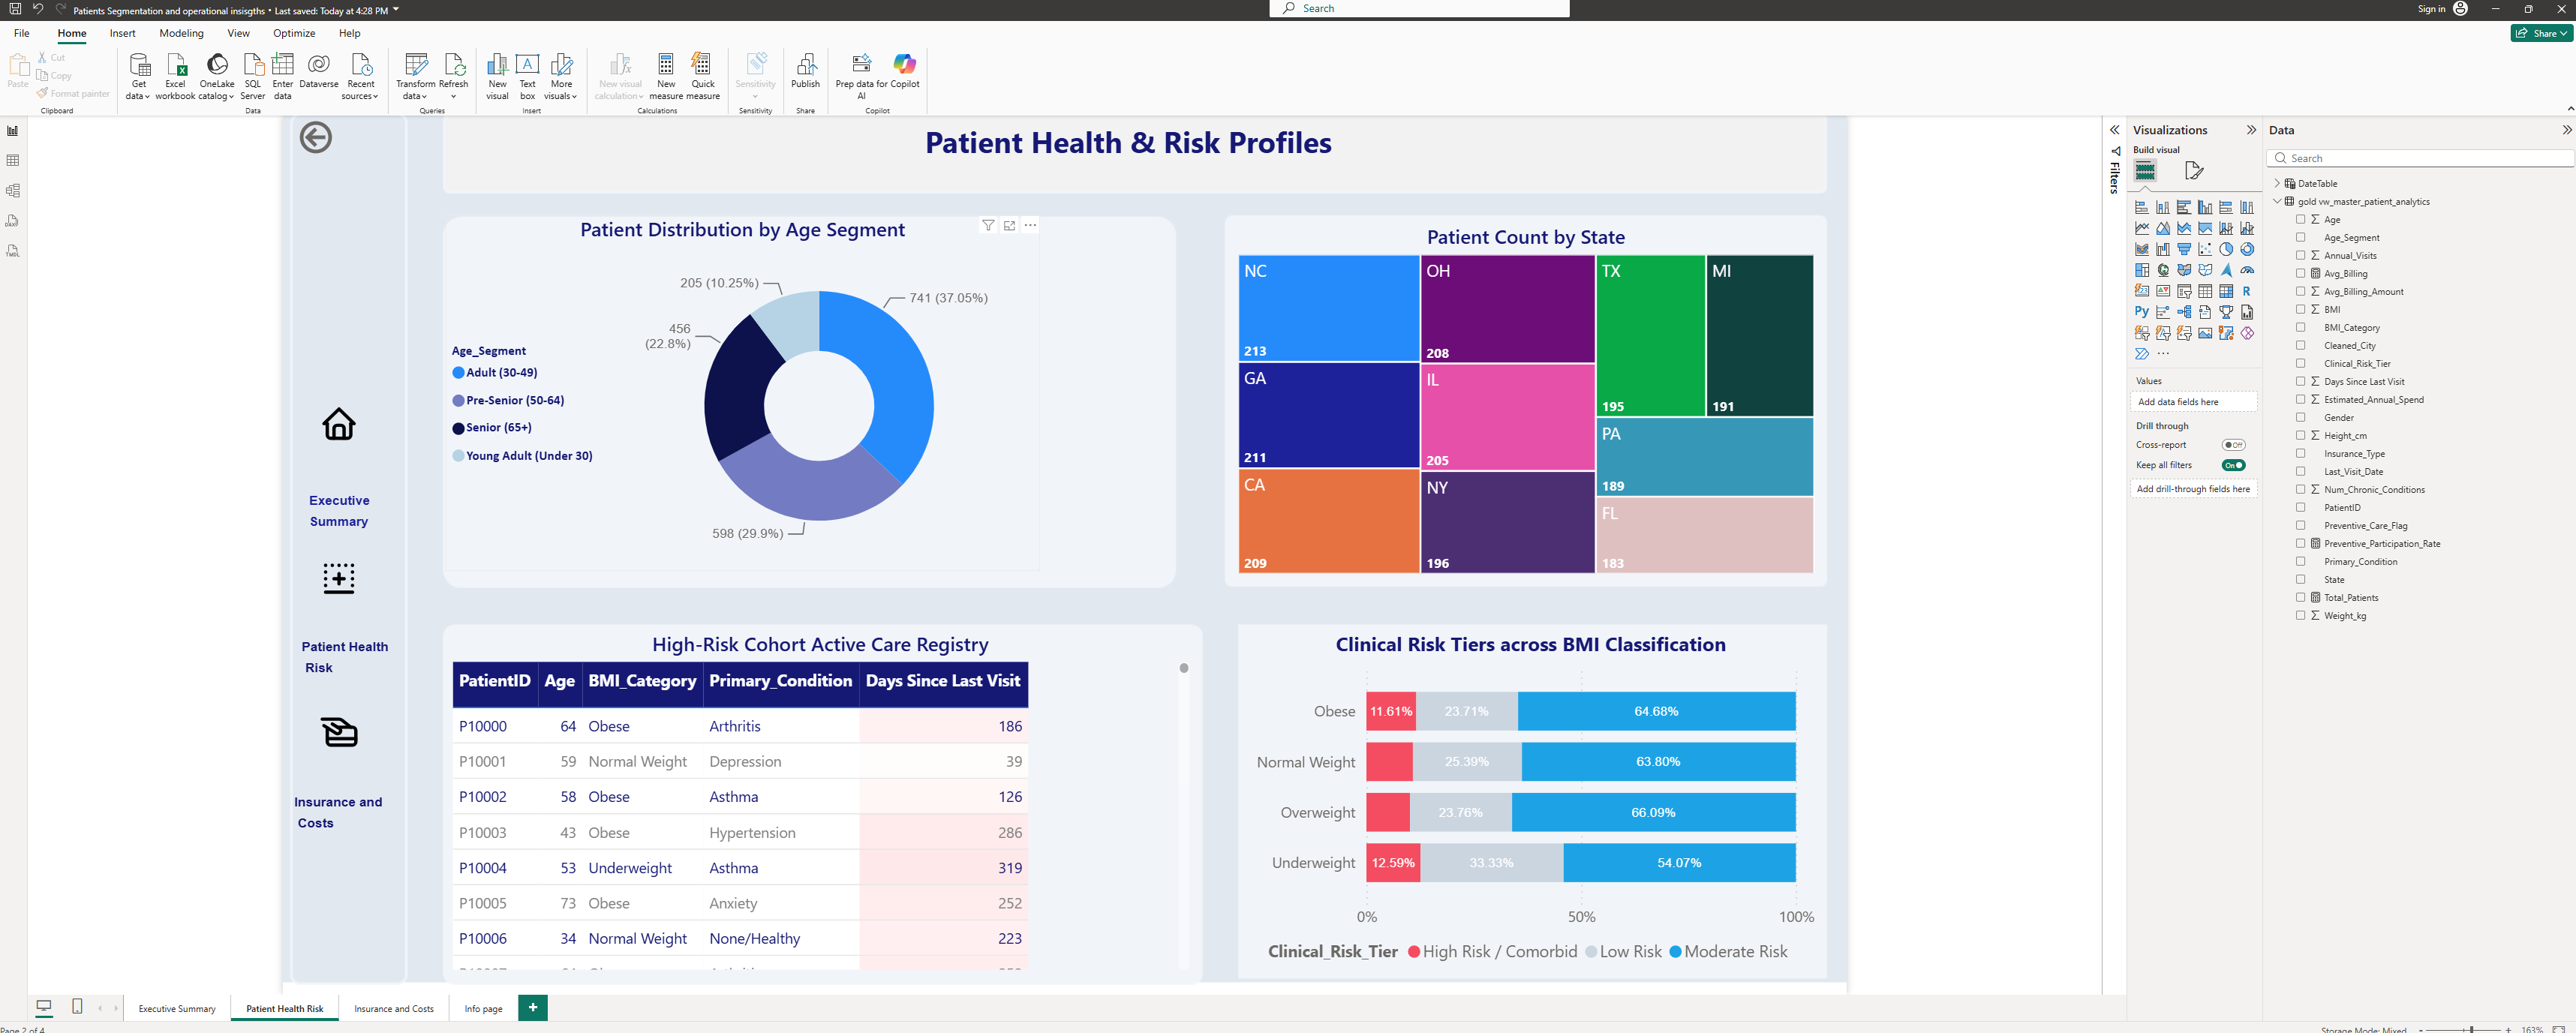

The page's visual inventory and layout, read from the dashboard file:
{"tool":"powerbi","page":{"name":"Patient Health Risk","canvas":[1280,720],"ordinal":1},"visuals":[{"type":"donutChart","title":"Patient Distribution by Age Segment","fields":{"Category":["gold vw_master_patient_analytics.Age_Segment"],"Y":["CountNonNull(gold vw_master_patient_analytics.PatientID)"]},"box":[133.3,81.7,486.6,291.2],"z":0},{"type":"hundredPercentStackedBarChart","title":"Clinical Risk Tiers across BMI Classification","fields":{"Category":["gold vw_master_patient_analytics.BMI_Category"],"Y":["CountNonNull(gold vw_master_patient_analytics.PatientID)"],"Series":["gold vw_master_patient_analytics.Clinical_Risk_Tier"]},"box":[785.1,421.4,473.7,282.6],"z":1000},{"type":"treemap","title":"Patient  Count by State","fields":{"Group":["gold vw_master_patient_analytics.State"],"Values":["CountNonNull(gold vw_master_patient_analytics.PatientID)"]},"box":[777.1,87.8,481.6,292.4],"z":2000},{"type":"tableEx","title":"High-Risk Cohort Active Care Registry","fields":{"Values":["gold vw_master_patient_analytics.PatientID","gold vw_master_patient_analytics.Age","gold vw_master_patient_analytics.BMI_Category","gold vw_master_patient_analytics.Primary_Condition","Sum(gold vw_master_patient_analytics.Days_Since_Last_Visit)"]},"box":[133.3,421.4,613.7,282.6],"z":3000},{"type":"actionButton","box":[9.2,0,39.9,35.6],"z":4000},{"type":"image","box":[29.5,227.3,32.6,49.8],"z":4001},{"type":"image","box":[29.5,361.8,32.6,35],"z":4002},{"type":"image","box":[29.5,485.9,32.6,38.1],"z":4003},{"type":"textbox","box":[16.6,299.8,79.2,44.8],"z":4004},{"type":"textbox","box":[10.4,419.6,85.4,43.6],"z":4005},{"type":"textbox","box":[4.3,546.8,91.5,58.4],"z":4006},{"type":"textbox","box":[125.9,0,1132.8,65.7],"z":4007}]}

Visuals, with their boxes on the page's 1280x720 design canvas (x1, y1, x2, y2). These are canvas units, not pixel positions in the 2576x1033 screenshot, which may show the page scaled, cropped or inside an application window:
"Patient Distribution by Age Segment" donutChart: [133,82,620,373]
"Clinical Risk Tiers across BMI Classification" hundredPercentStackedBarChart: [785,421,1259,704]
"Patient  Count by State" treemap: [777,88,1259,380]
"High-Risk Cohort Active Care Registry" tableEx: [133,421,747,704]
actionButton: [9,0,49,36]
image: [30,227,62,277]
image: [30,362,62,397]
image: [30,486,62,524]
textbox: [17,300,96,345]
textbox: [10,420,96,463]
textbox: [4,547,96,605]
textbox: [126,0,1259,66]
